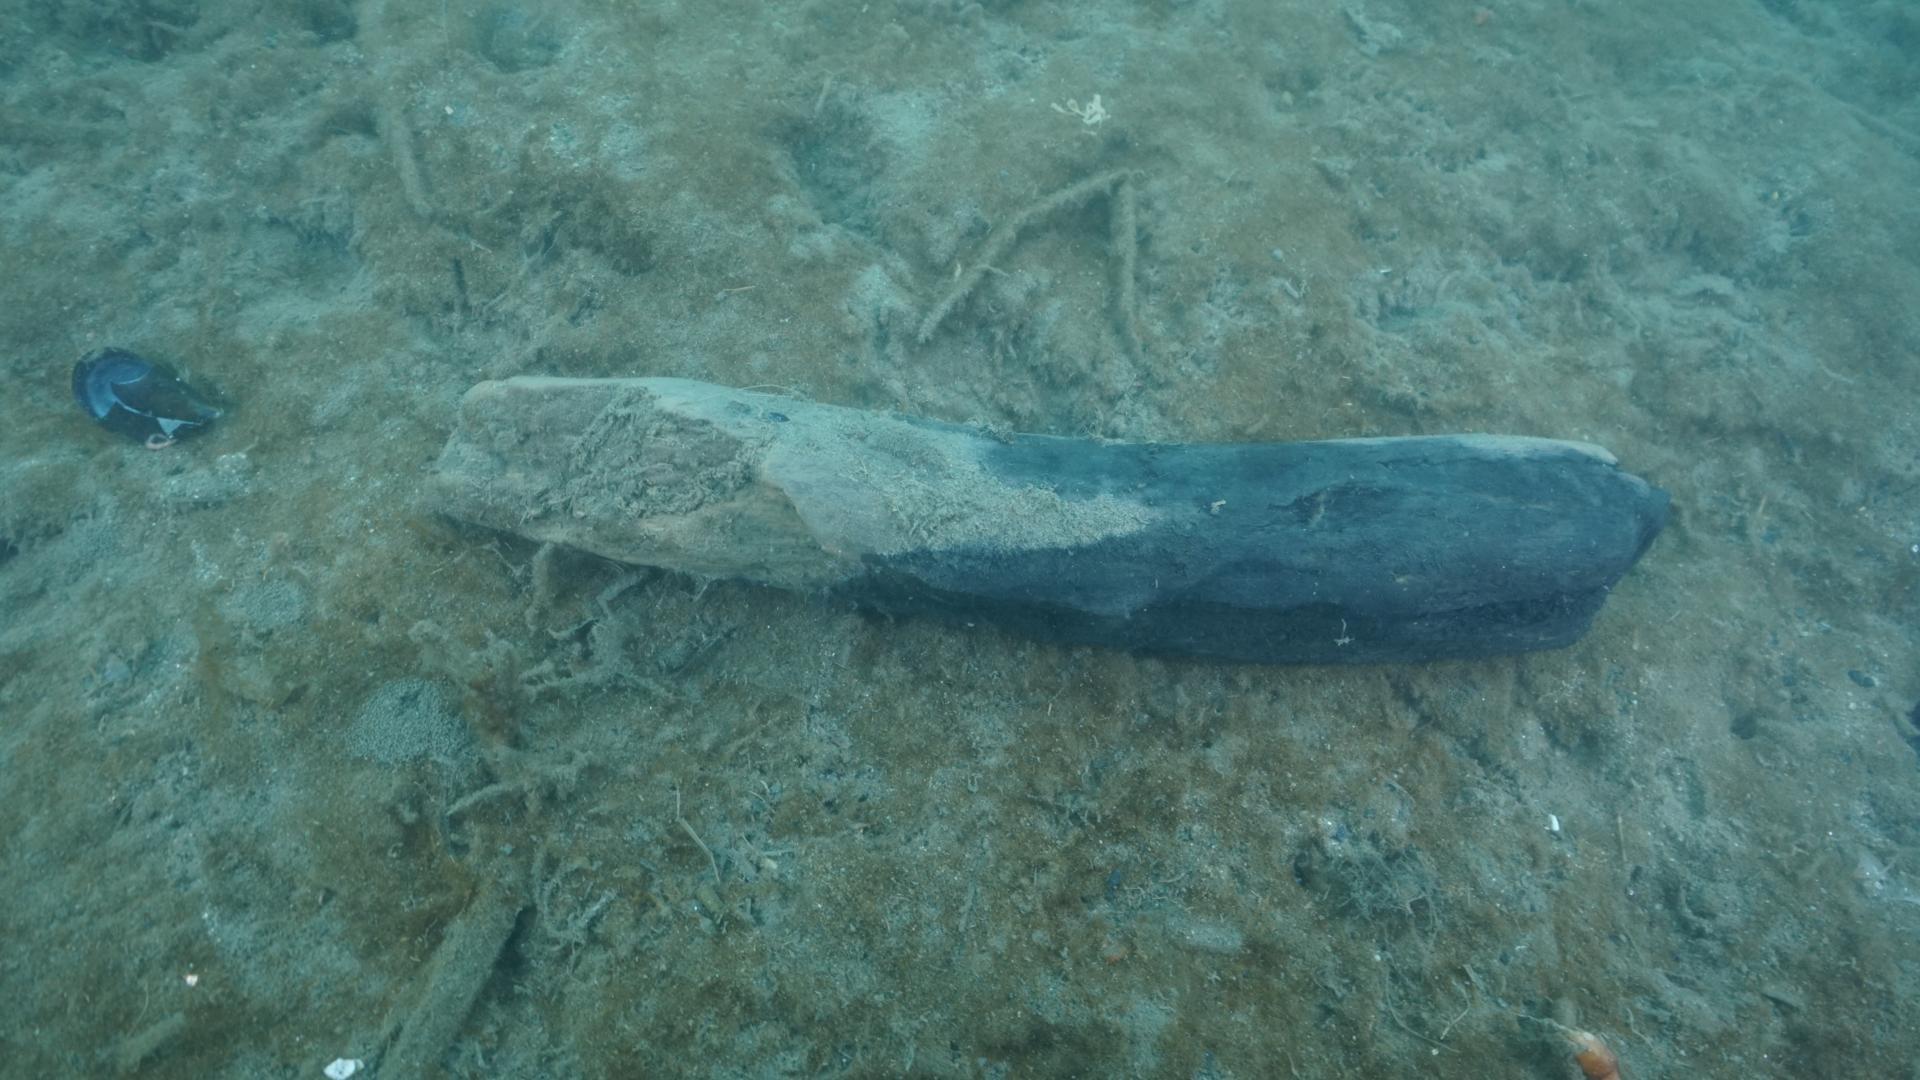wood: (407, 363, 1675, 665)
